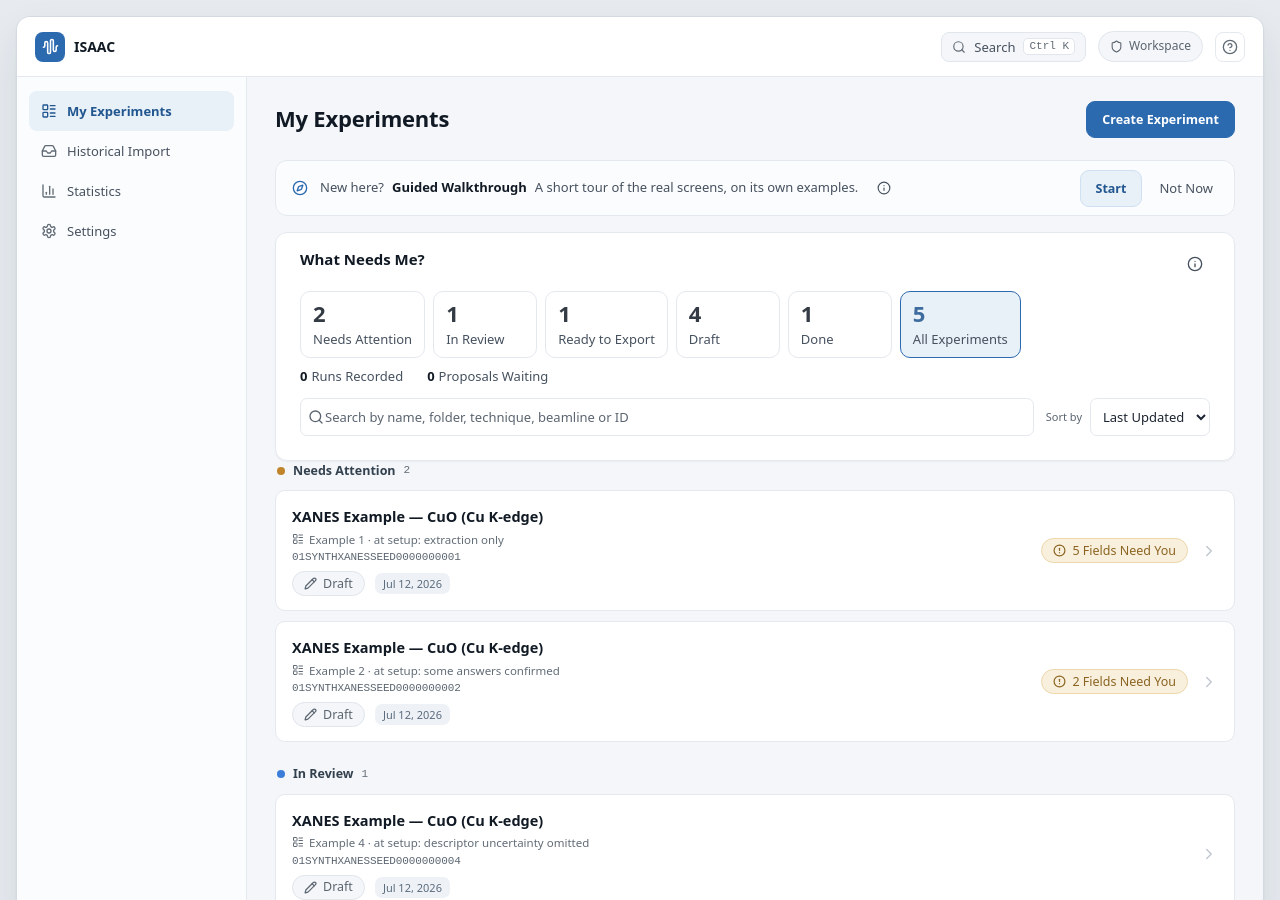
Test: R0 · stepping through the walkthrough › Start opens step one, anchored to the real queue control
The width and height of the screenshot is (1280, 900).
expect the heading "Guided Walkthrough" is shown: met, box x1=392 y1=179 x2=527 y2=197
Step 1. Click the button with aria-label "Start Guided Walkthrough" → (1111, 188), box x1=1080 y1=170 x2=1142 y2=207
(page scrolled)
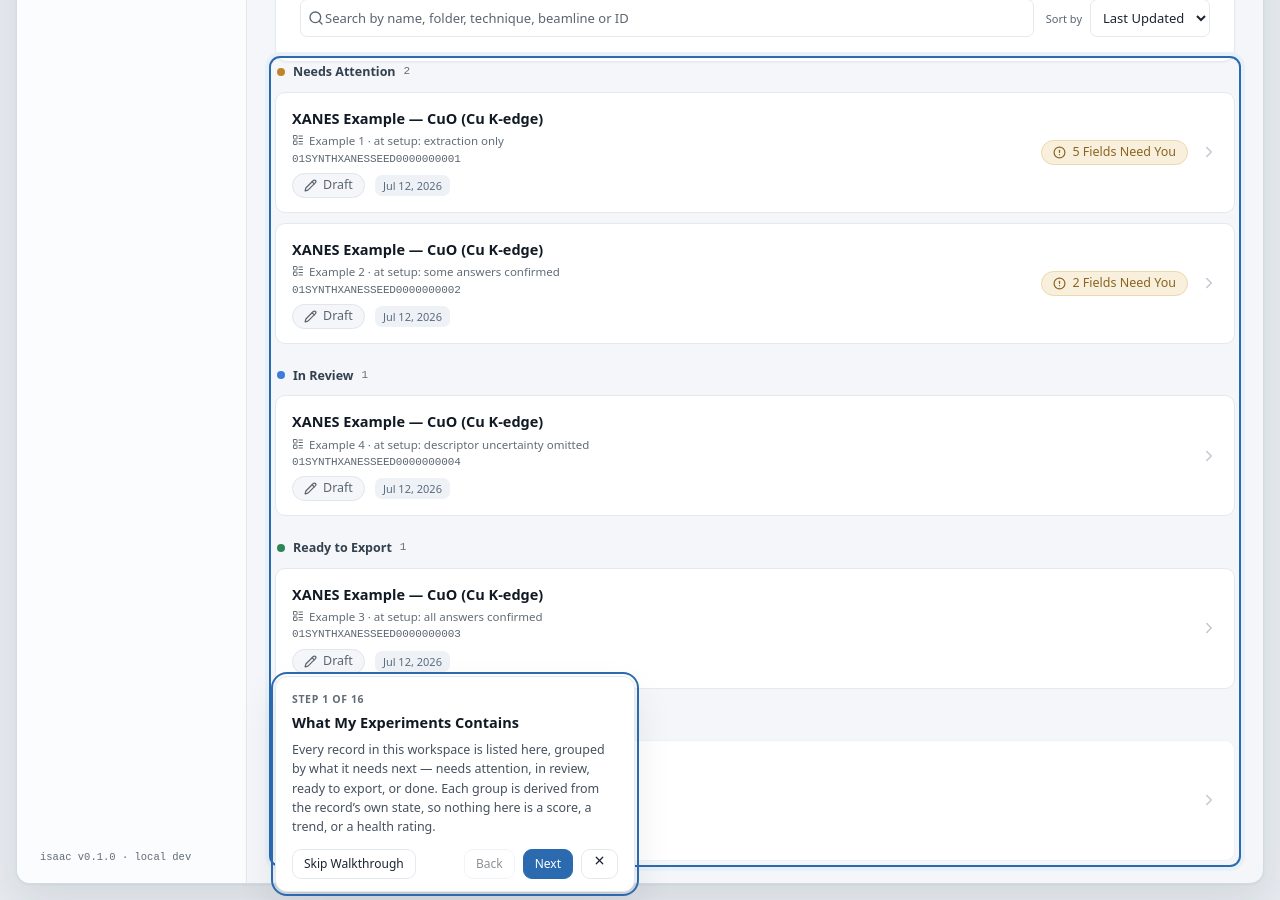
expect the dialog with class "tutorial-mark" is shown: met, box x1=275 y1=676 x2=635 y2=892
expect the element with class "tutorial-offer" is gone: met
